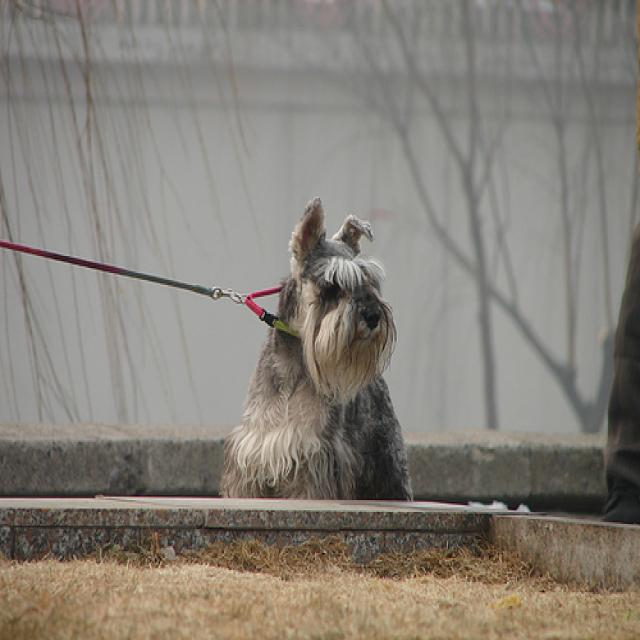dog: (219, 196, 417, 505)
